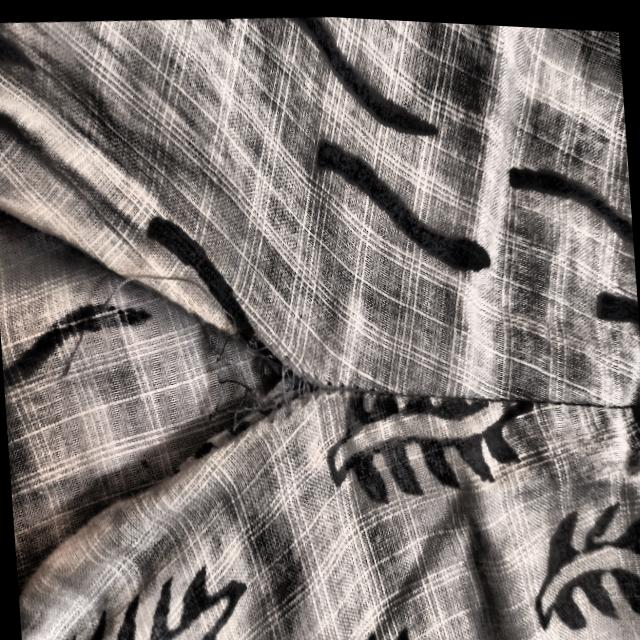Stitch: (28, 241, 329, 474)
